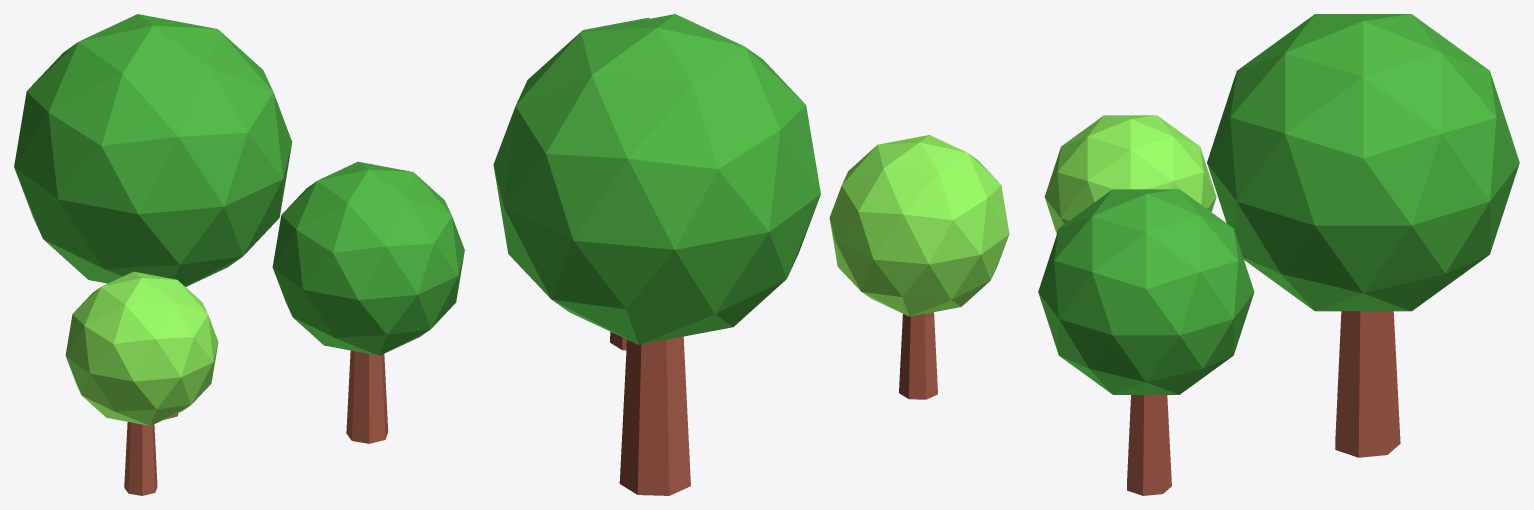
The model's file is 3d_icons_tree.fbx.
The picture shows the model from 3 angles, left to right: view 1: azimuth 30°, elevation 25°; view 2: azimuth 150°, elevation 25°; view 3: azimuth 270°, elevation 25°; orthographic projection. The views are drawn at different scales.
Parts seen in each view (by area): view 1: trees; view 2: trees; view 3: trees.
Part boxes in pixels (box(x1,y1,x2,y2)): trees: box(14, 14, 464, 495); trees: box(493, 14, 1009, 495); trees: box(1038, 14, 1519, 495).
Bounding box in the file's own units: 177 × 172 × 177.
